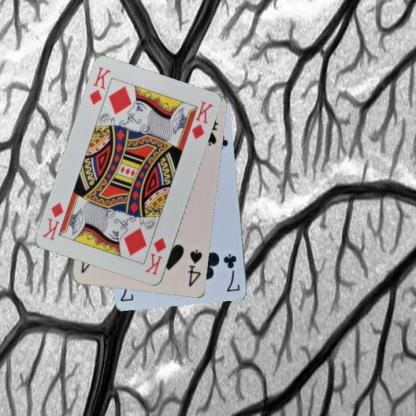4s: (185, 247, 203, 288)
7c: (221, 251, 242, 294)
Kd: (142, 235, 168, 277), (86, 64, 112, 106)
